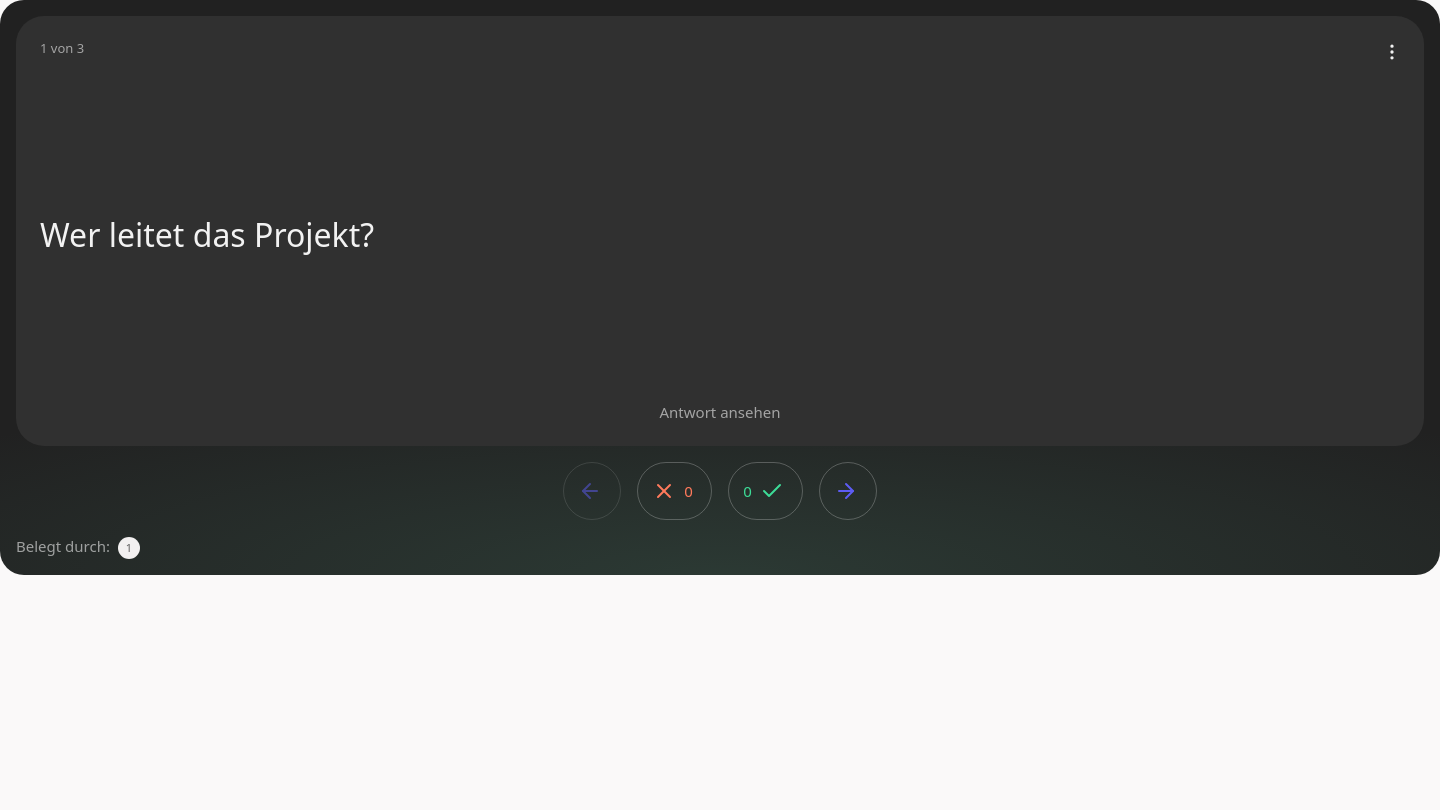
Test case: FlashcardsView › turns the card on a click and turns it back
Click the button named "Aktivieren, um die Antwort zu sehen".
click(720, 231)  # box [16,16,1424,446]
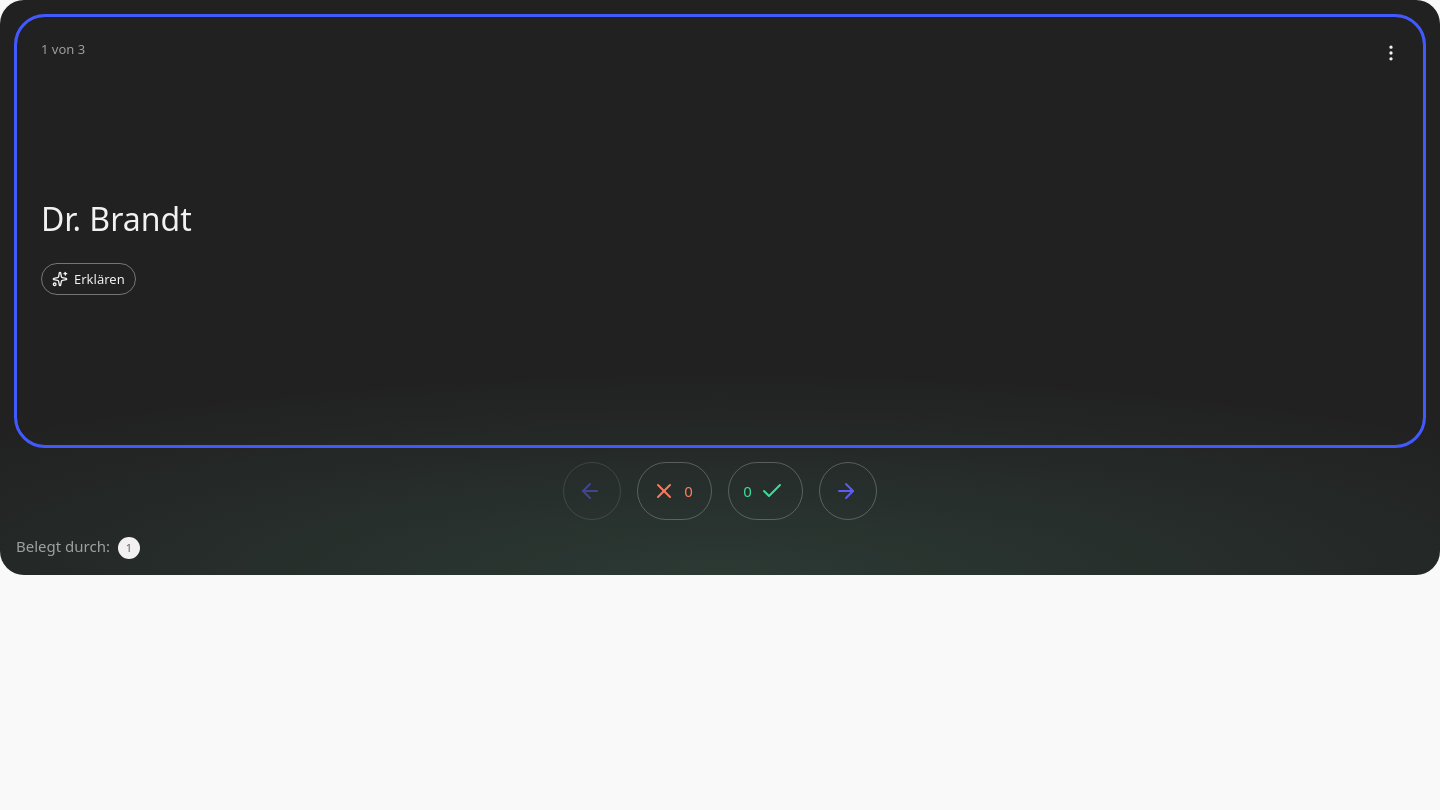
Check: the text "Dr. Brandt" is shown, box [41,197,192,240]
Check: the text "Wer leitet das Projekt?" is gone
Click the button named "Aktivieren, um die Frage zu sehen".
click(720, 231)  # box [17,17,1423,445]
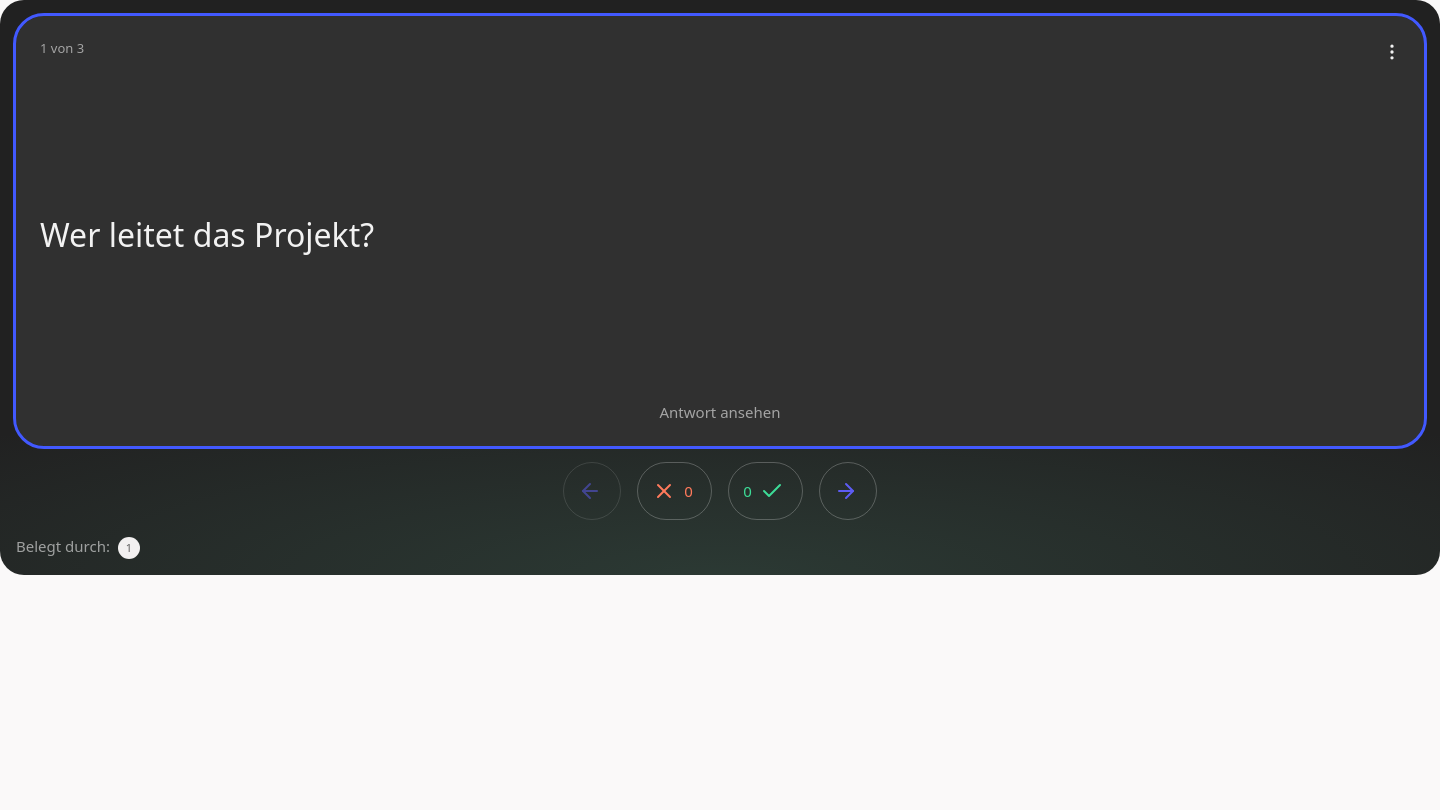
Check: the text "Wer leitet das Projekt?" is shown, box [40,213,374,256]
